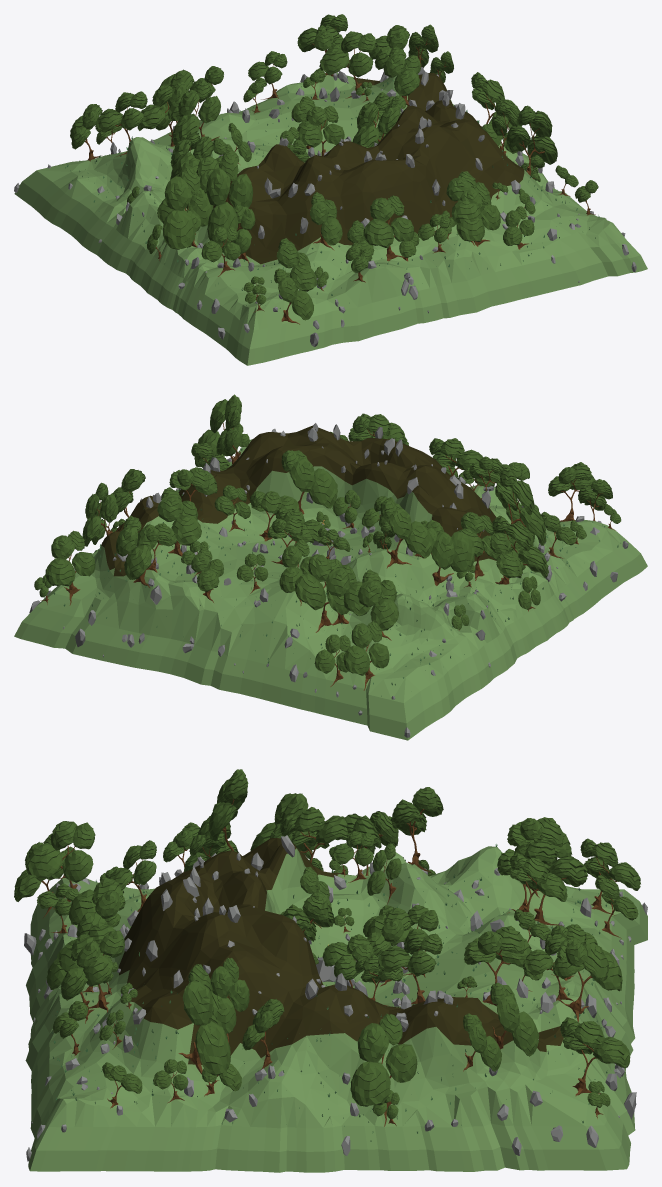
Rendered from sword-in-stone.glb.
3 views of the same model, one above another, from view 1: azimuth 30°, elevation 25°; view 2: azimuth 150°, elevation 25°; view 3: azimuth 270°, elevation 25° (orthographic). The views are drawn at different scales.
Visible parts, largest first — view 1: Terrain, Tree-combine (×34); view 2: Terrain, Tree-combine (×38); view 3: Terrain, Tree-combine (×43).
Part boxes in pixels (box(x1,y1,x2,y2)): Terrain: box(14, 73, 647, 365); Tree-combine (×34): box(70, 14, 557, 324); Terrain: box(14, 425, 647, 740); Tree-combine (×38): box(45, 394, 612, 690); Terrain: box(25, 838, 647, 1172); Tree-combine (×43): box(14, 769, 640, 1126).
Bounding box in the file's own units: 217 × 77.12 × 225.
